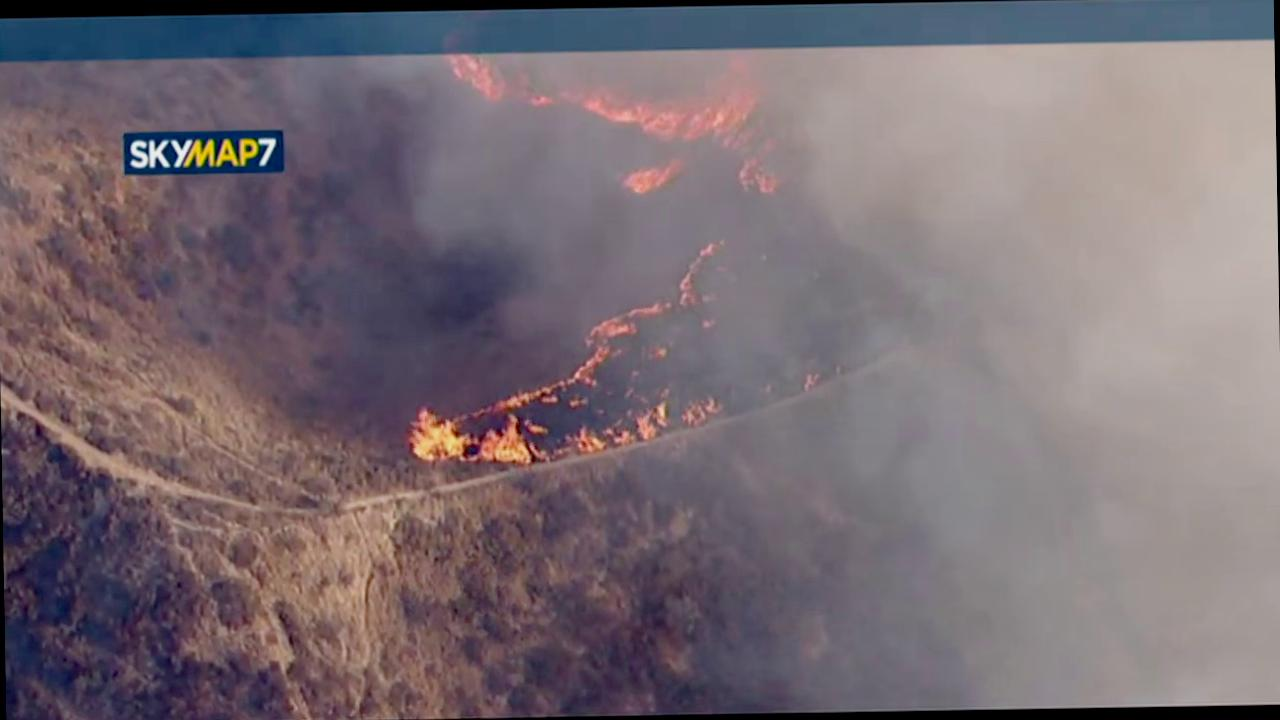fire: (454, 53, 792, 200), (376, 369, 775, 472), (551, 244, 742, 399)
smoke: (226, 64, 1280, 711)
